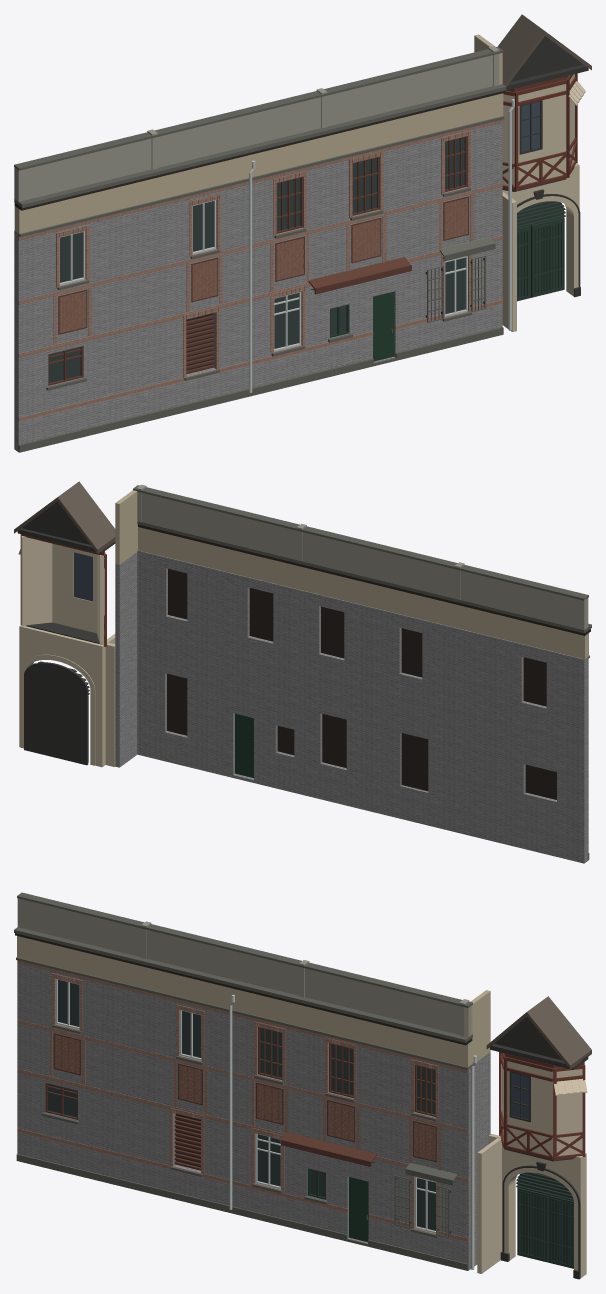
The model's file is xuhui-yanqing-121-brick-front-raw.glb.
The picture shows the model from 3 angles, top to bottom: view 1: azimuth 30°, elevation 25°; view 2: azimuth 150°, elevation 25°; view 3: azimuth 330°, elevation 25°; orthographic projection. The views are drawn at different scales.
Parts seen in each view (by area): view 1: 延庆路121号住宅砖砌街面与木筋凸窗; view 2: 延庆路121号住宅砖砌街面与木筋凸窗; view 3: 延庆路121号住宅砖砌街面与木筋凸窗.
Part boxes in pixels (box(x1,y1,x2,y2)): 延庆路121号住宅砖砌街面与木筋凸窗: box(14, 14, 591, 452); 延庆路121号住宅砖砌街面与木筋凸窗: box(14, 481, 591, 863); 延庆路121号住宅砖砌街面与木筋凸窗: box(14, 892, 591, 1279).
Bounding box in the file's own units: 17.75 × 8.23 × 2.1.
17 materials, 3 textured.
